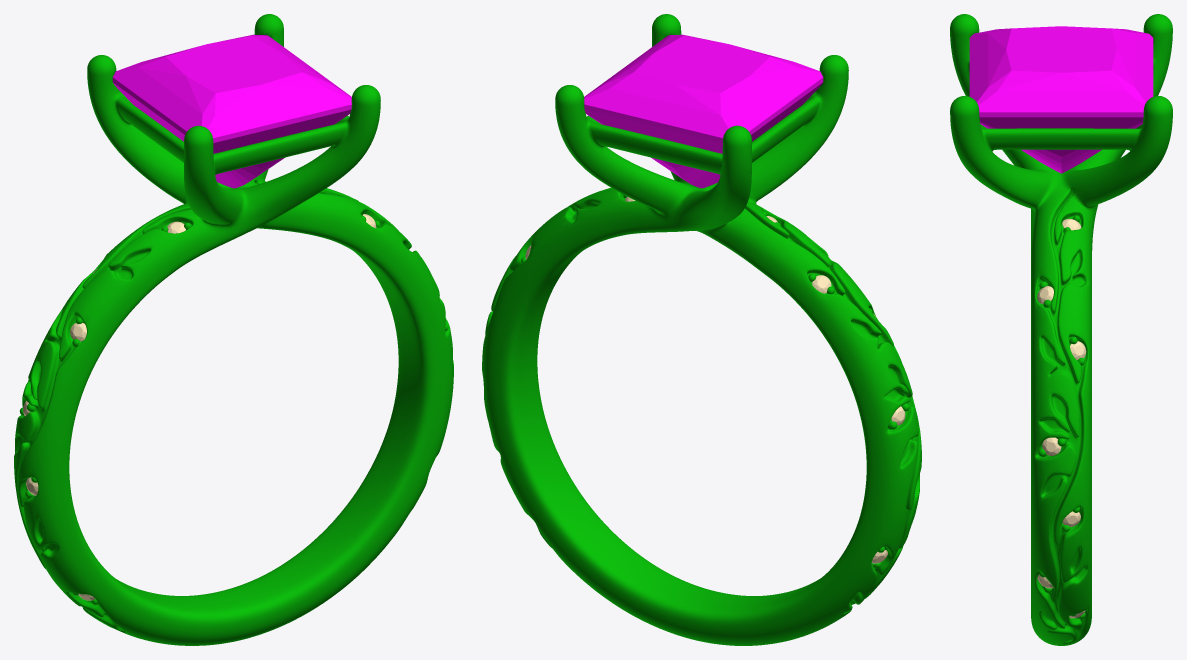
Rendered from BE1D5896_PR_200ct_RENDER.glb.
3 views of the same model, side by side, from view 1: azimuth 30°, elevation 25°; view 2: azimuth 150°, elevation 25°; view 3: azimuth 270°, elevation 25° (orthographic).
Visible parts, largest first — view 1: Metal 01, CS_Diamond_Princess; view 2: Metal 01, CS_Diamond_Princess; view 3: Metal 01, CS_Diamond_Princess.
Part boxes in pixels (x1=…): Metal 01: x1=14, y1=14, x2=453, y2=645; CS_Diamond_Princess: x1=112, y1=34, x2=351, y2=188; Metal 01: x1=482, y1=14, x2=921, y2=645; CS_Diamond_Princess: x1=584, y1=34, x2=823, y2=188; Metal 01: x1=950, y1=14, x2=1172, y2=645; CS_Diamond_Princess: x1=969, y1=26, x2=1153, y2=173.
Size of the model in its own units: 20.28 by 25.79 by 9.09.
